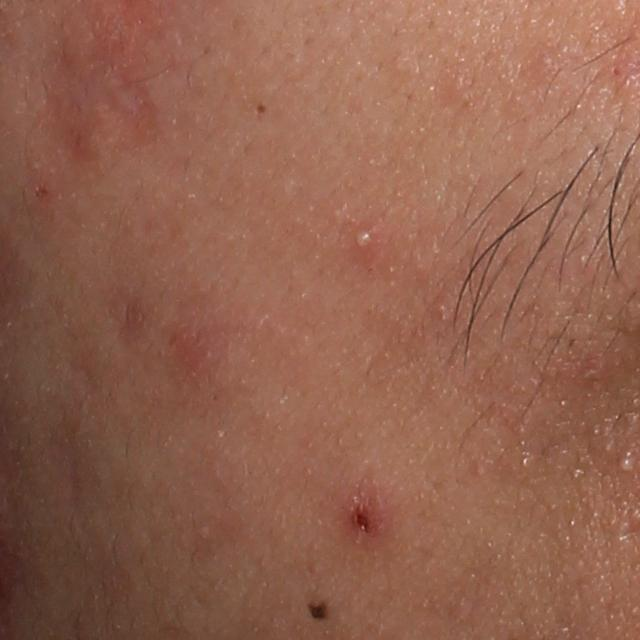comedo: (252, 100, 268, 117)
nevus: (305, 595, 332, 626)
papule: (343, 482, 387, 539)
pustule: (353, 226, 376, 249), (616, 451, 636, 476)
